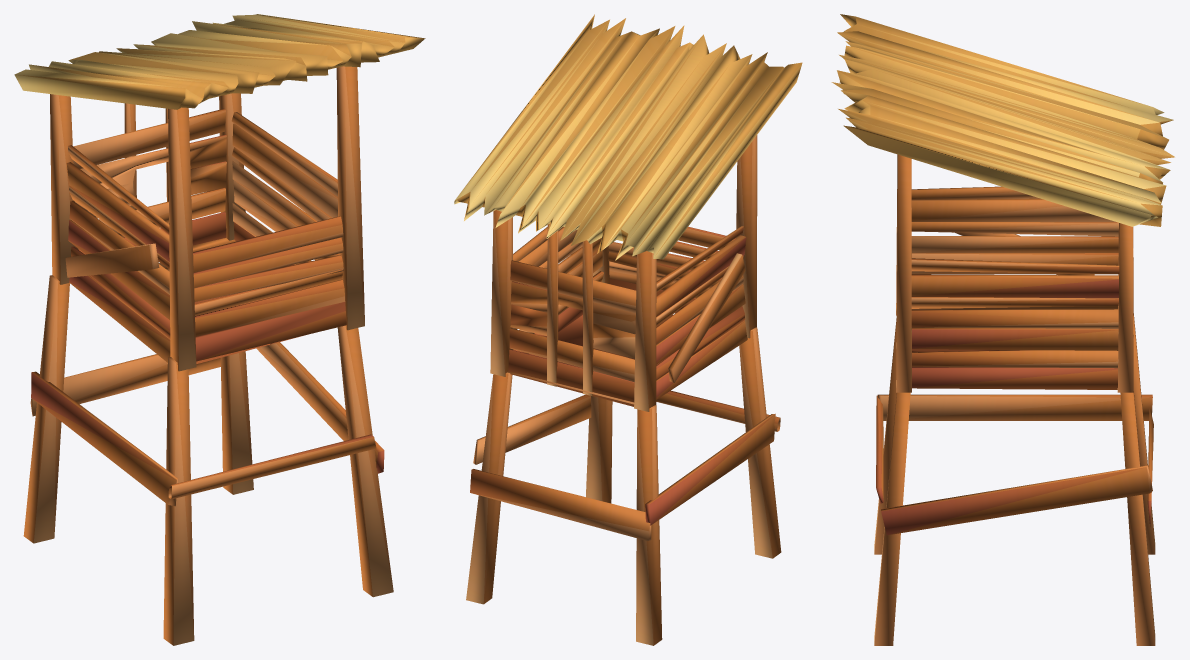
File: GL-Manmade-11.fbx
3 views of the same model, side by side, from view 1: azimuth 30°, elevation 25°; view 2: azimuth 150°, elevation 25°; view 3: azimuth 270°, elevation 25° (orthographic). The views are drawn at different scales.
Visible parts, largest first — view 1: GL-Manmade-11; view 2: GL-Manmade-11; view 3: GL-Manmade-11.
Boxes of the visible parts, left/top/right/bottom form: GL-Manmade-11: left=14, top=14, right=425, bottom=645; GL-Manmade-11: left=454, top=14, right=802, bottom=645; GL-Manmade-11: left=831, top=14, right=1174, bottom=645.
Bounding box in the file's own units: 1.11 × 2.48 × 1.45.
